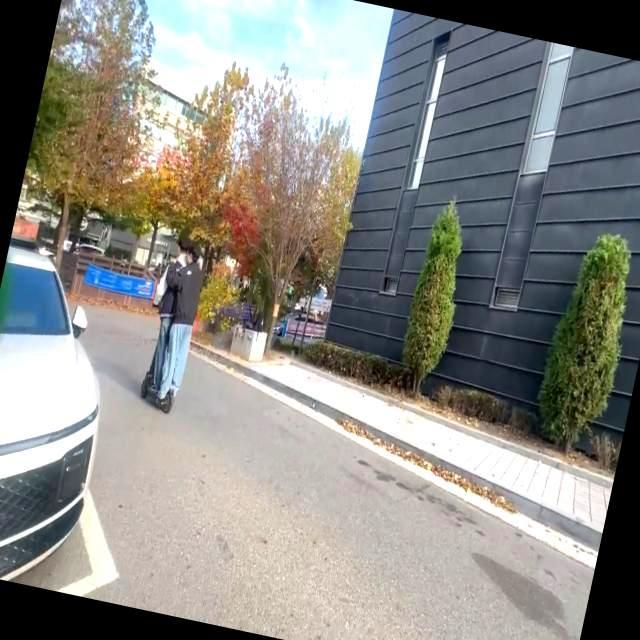bare_head: (180, 244, 201, 264), (174, 237, 193, 259)
human: (157, 244, 204, 399), (147, 237, 191, 389)
kickboard: (137, 370, 177, 416)
